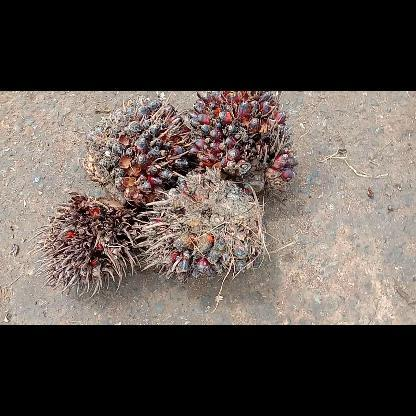TBS abnormal: (133, 166, 263, 282), (80, 94, 196, 204), (184, 90, 298, 194), (28, 196, 140, 296)
